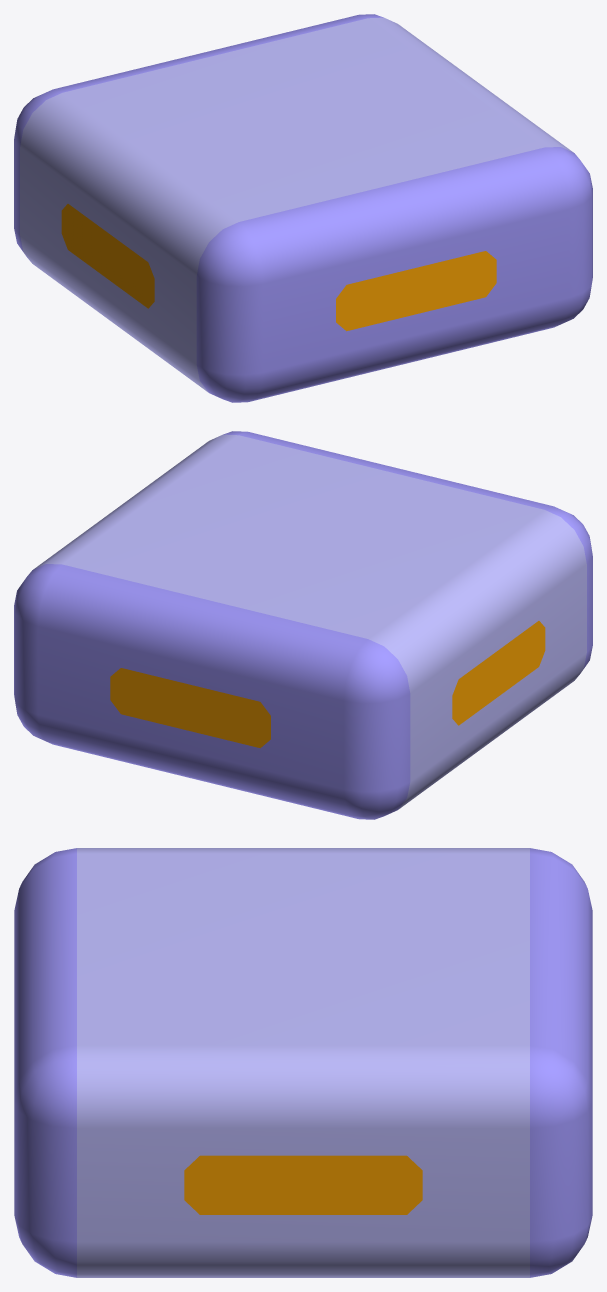
Rendered from Building_021_d.fbx.
3 renders of one model, top to bottom at view 1: azimuth 30°, elevation 25°; view 2: azimuth 150°, elevation 25°; view 3: azimuth 270°, elevation 25°, orthographic. The views are drawn at different scales.
Parts seen in each view (by area): view 1: Building_021_d; view 2: Building_021_d; view 3: Building_021_d.
Part boxes in pixels (x1=…): Building_021_d: x1=14, y1=14, x2=592, y2=402; Building_021_d: x1=14, y1=431, x2=592, y2=819; Building_021_d: x1=14, y1=848, x2=592, y2=1277.
Bounding box in the file's own units: 16.45 × 7.11 × 16.45.
